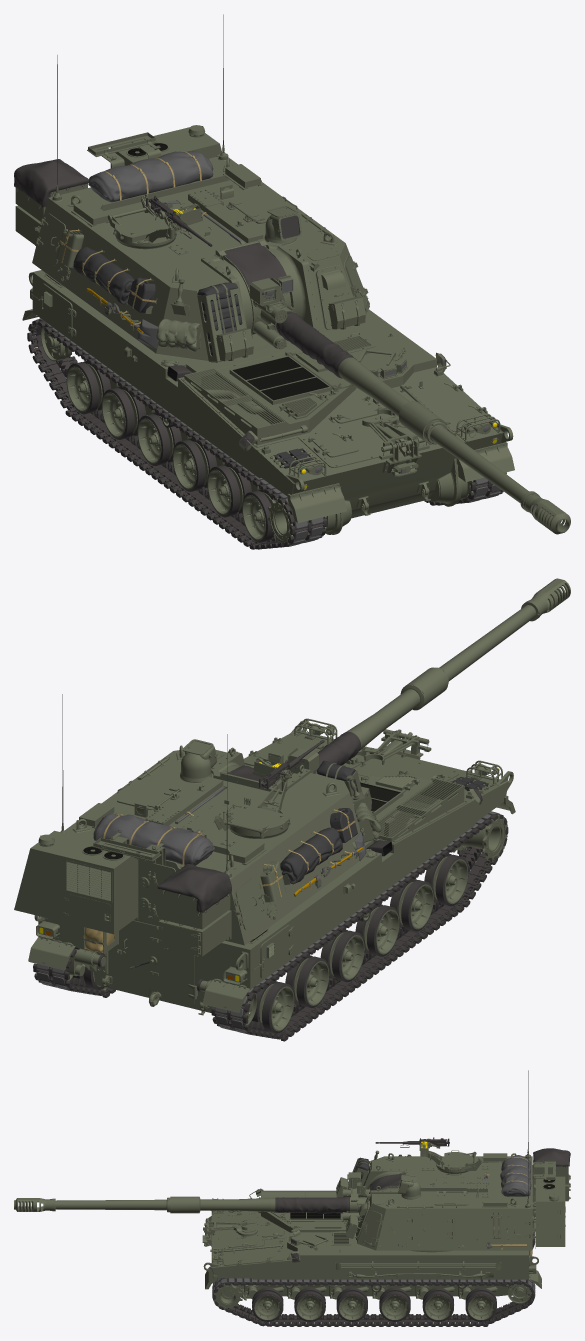
3 renders of one model, top to bottom at view 1: azimuth 30°, elevation 25°; view 2: azimuth 150°, elevation 25°; view 3: azimuth 270°, elevation 25°, orthographic. The views are drawn at different scales.
Visible parts, largest first — view 1: Object_85, Object_84, Object_77, Object_86, Object_67, Object_91, Object_8, Object_26, Object_15, Object_81, Object_73, Object_75 (+34 smaller); view 2: Object_85, Object_84, Object_91, Object_77, Object_26, Object_67, Object_86, Object_81, Object_8, Object_76, Object_72, Object_10 (+32 smaller); view 3: Object_85, Object_84, Object_66, Object_91, Object_67, Object_77, Object_78, Object_86, Object_15, Object_72, Object_20, Object_60 (+34 smaller).
Part boxes in pixels (x1,y1,x2,y2): Object_85: [32, 270, 507, 534]; Object_84: [32, 156, 369, 360]; Object_77: [15, 127, 514, 522]; Object_86: [34, 125, 501, 526]; Object_67: [44, 206, 539, 511]; Object_91: [15, 139, 486, 468]; Object_8: [88, 151, 213, 349]; Object_26: [32, 215, 278, 549]; Object_15: [179, 211, 356, 378]; Object_81: [102, 389, 271, 540]; Object_73: [40, 217, 475, 534]; Object_75: [22, 199, 505, 507]; Object_85: [38, 731, 508, 1012]; Object_84: [64, 749, 366, 945]; Object_91: [48, 729, 492, 1006]; Object_77: [14, 719, 515, 1015]; Object_26: [33, 768, 491, 1041]; Object_67: [141, 599, 542, 943]; Object_86: [38, 728, 497, 1017]; Object_81: [293, 856, 468, 1005]; Object_8: [93, 814, 366, 888]; Object_76: [36, 667, 502, 1008]; Object_72: [65, 720, 370, 988]; Object_10: [92, 760, 482, 967]; Object_85: [211, 1190, 528, 1296]; Object_84: [357, 1156, 532, 1250]; Object_66: [281, 1174, 565, 1294]; Object_91: [207, 1158, 570, 1277]; Object_67: [50, 1143, 502, 1289]; Object_77: [203, 1142, 568, 1289]; Object_78: [205, 1186, 408, 1319]; Object_86: [211, 1153, 558, 1311]; Object_15: [275, 1142, 495, 1320]; Object_72: [203, 1152, 570, 1309]; Object_20: [214, 1279, 532, 1324]; Object_60: [204, 1187, 535, 1277].
Size of the model in its own units: 3373 by 4526 by 11385.
